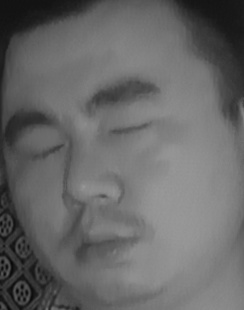blink: (105, 111, 158, 148), (22, 132, 68, 168)
mouth: (66, 216, 143, 268)
